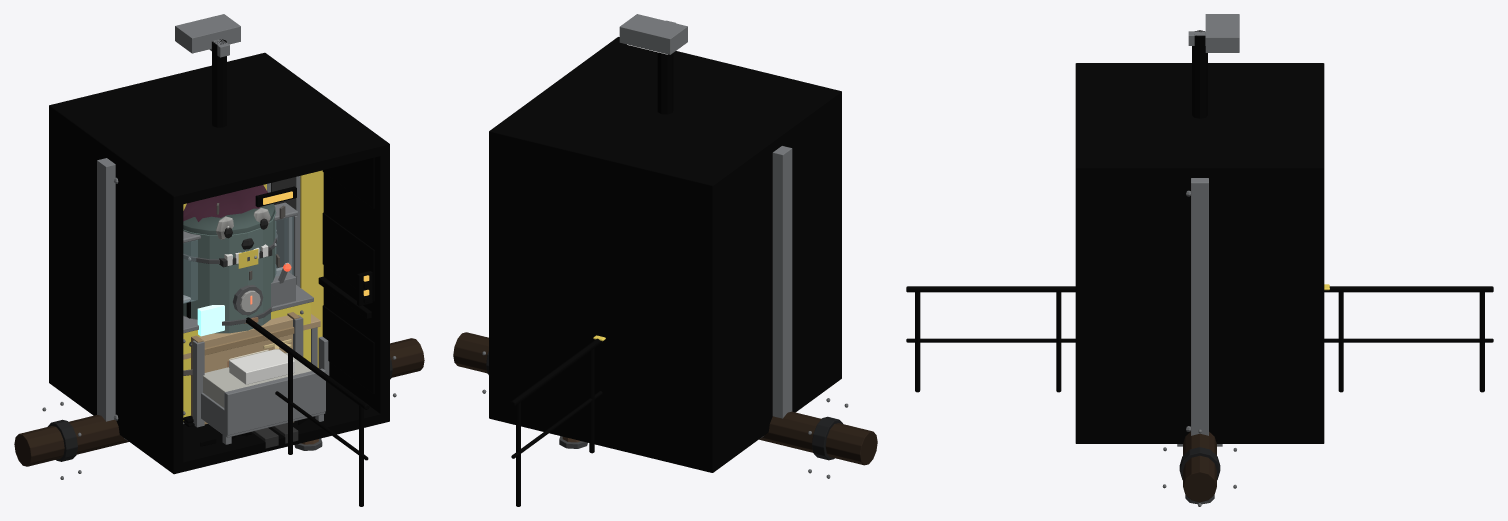
The model's file is props.glb.
3 renders of one model, left to right at view 1: azimuth 30°, elevation 25°; view 2: azimuth 150°, elevation 25°; view 3: azimuth 270°, elevation 25°, orthographic. The views are drawn at different scales.
Visible parts, largest first — view 1: elevator, blastdoor, tank, bed, pipe, crate, generator, lamppost, mascot, sample_station, stairs_rail, corpse (+1 smaller); view 2: elevator, blastdoor, pipe, lamppost, stairs_rail; view 3: elevator, stairs_rail, blastdoor, lamppost, pipe.
Part boxes in pixels (x1=…): elevator: x1=49, y1=52, x2=389, y2=474; blastdoor: x1=97, y1=158, x2=323, y2=421; tank: x1=183, y1=203, x2=291, y2=367; bed: x1=201, y1=349, x2=325, y2=444; pipe: x1=14, y1=336, x2=424, y2=479; crate: x1=189, y1=312, x2=303, y2=427; generator: x1=183, y1=262, x2=313, y2=423; lamppost: x1=175, y1=14, x2=240, y2=127; mascot: x1=183, y1=185, x2=285, y2=280; sample_station: x1=183, y1=202, x2=298, y2=303; stairs_rail: x1=246, y1=317, x2=369, y2=506; corpse: x1=252, y1=421, x2=298, y2=448; elevator: x1=489, y1=37, x2=841, y2=472; blastdoor: x1=772, y1=146, x2=792, y2=418; pipe: x1=453, y1=332, x2=877, y2=478; lamppost: x1=619, y1=14, x2=687, y2=114; stairs_rail: x1=510, y1=335, x2=605, y2=506; elevator: x1=1075, y1=63, x2=1324, y2=443; stairs_rail: x1=906, y1=284, x2=1493, y2=392; blastdoor: x1=1186, y1=178, x2=1208, y2=435; lamppost: x1=1188, y1=14, x2=1239, y2=118; pipe: x1=1162, y1=429, x2=1236, y2=506.
Bounding box in the file's own units: 4 × 4.2 × 5.2.
